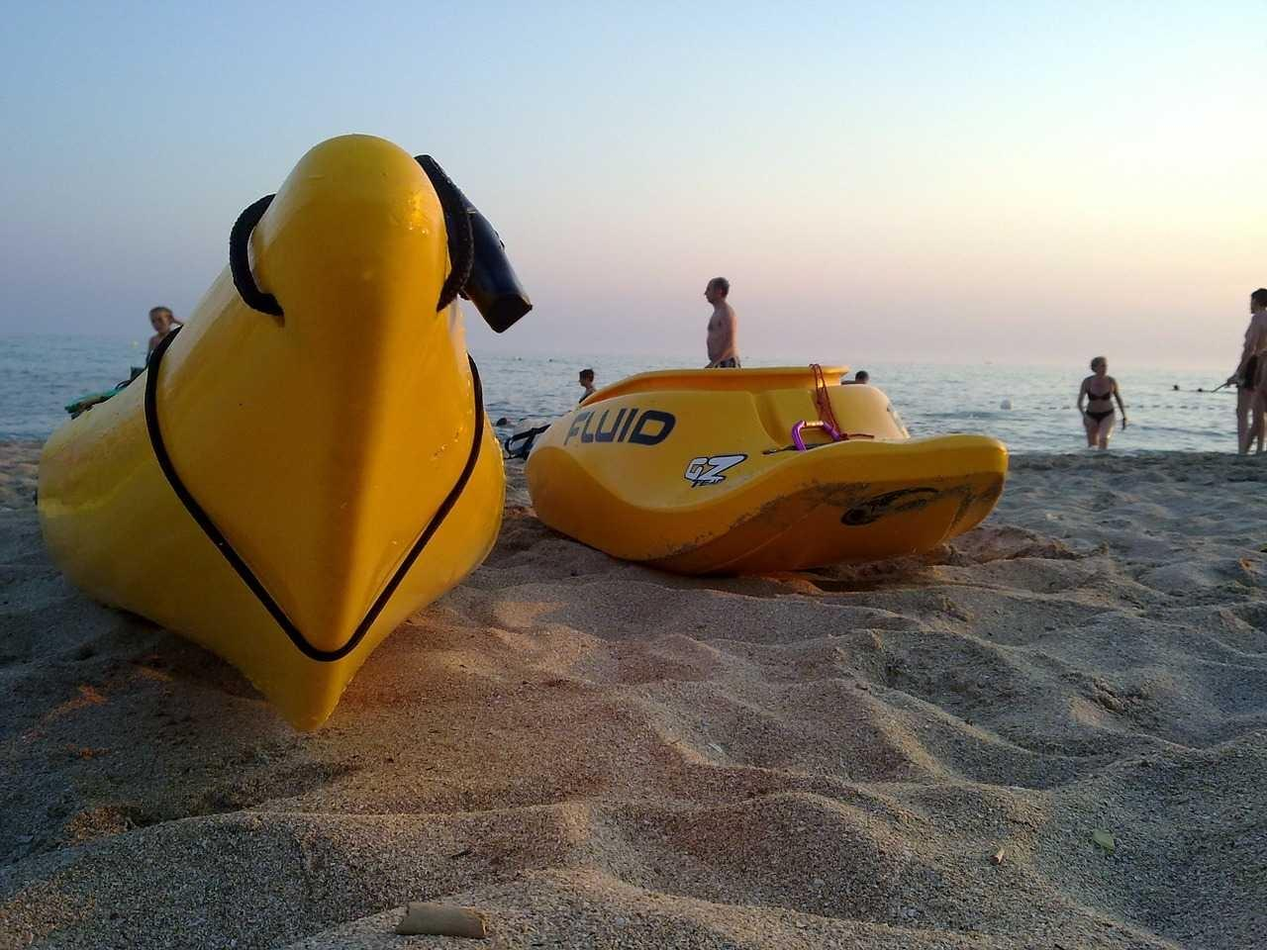kayak: (526, 366, 1009, 578)
